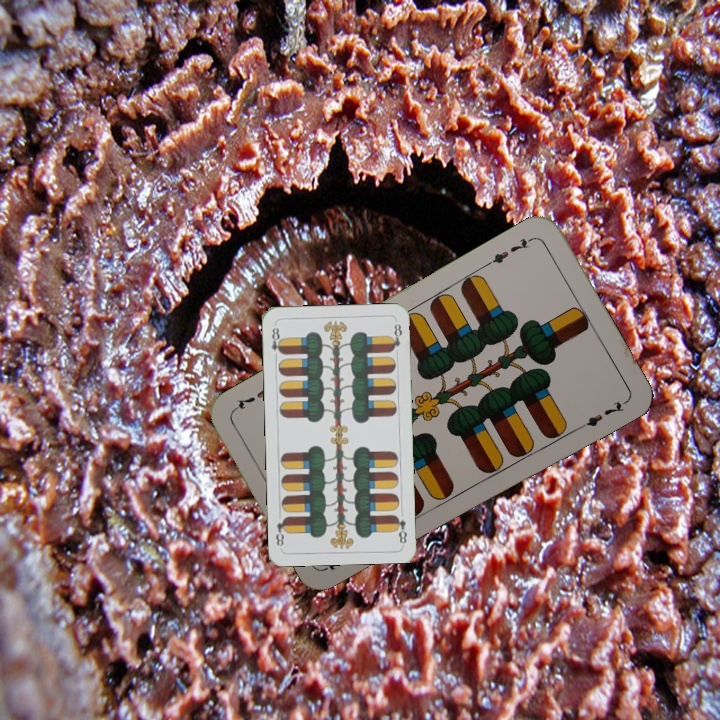E7: (482, 233, 537, 269)
E8: (267, 323, 285, 362), (391, 511, 409, 546)
